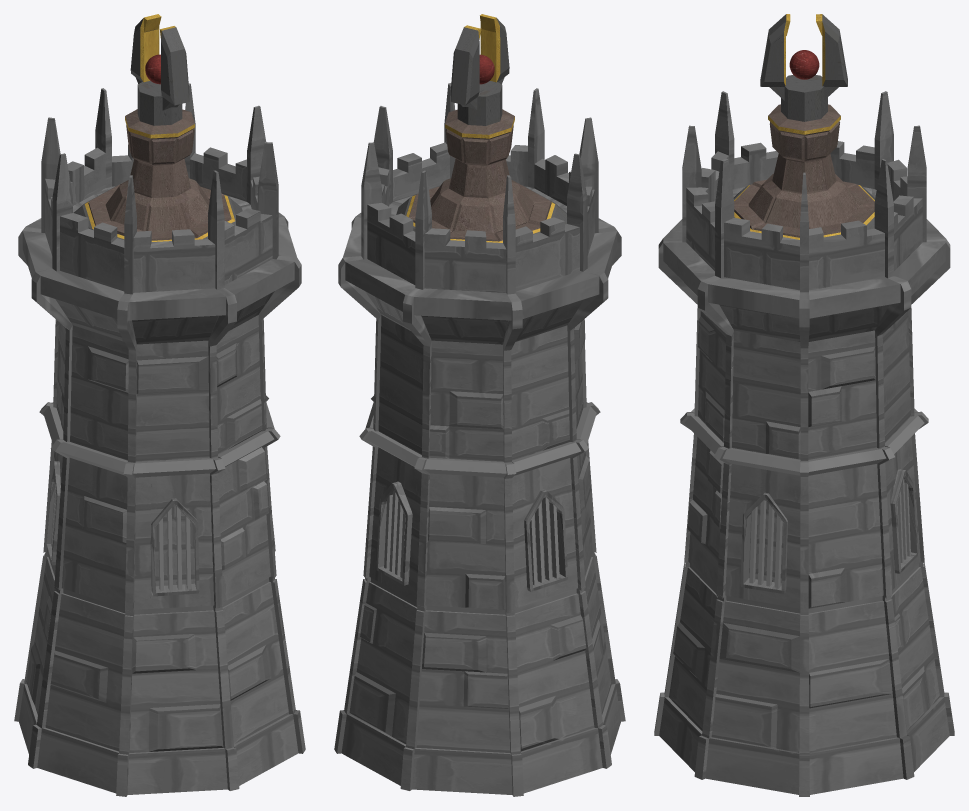
The model's file is att3-ballista.fbx.
The picture shows the model from 3 angles, left to right: view 1: azimuth 30°, elevation 25°; view 2: azimuth 150°, elevation 25°; view 3: azimuth 270°, elevation 25°; orthographic projection.
Visible parts, largest first — view 1: polySurface48; view 2: polySurface48; view 3: polySurface48.
Part boxes in pixels (x1=…): polySurface48: x1=14, y1=14, x2=305, y2=796; polySurface48: x1=334, y1=14, x2=625, y2=796; polySurface48: x1=654, y1=14, x2=954, y2=796.
Size of the model in its own units: 13.87 by 36.5 by 13.87.
6 materials, 5 textured.
